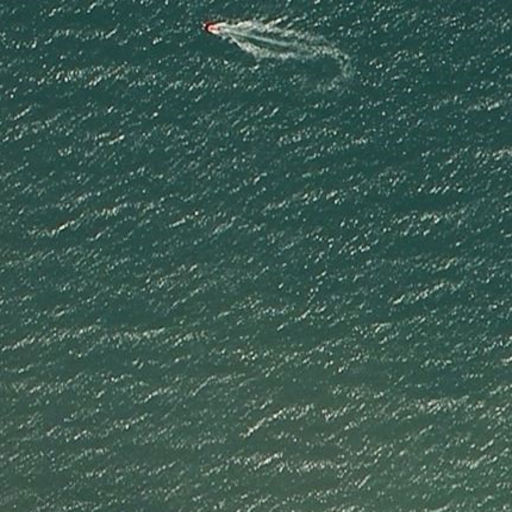ship: (205, 20, 227, 38)
